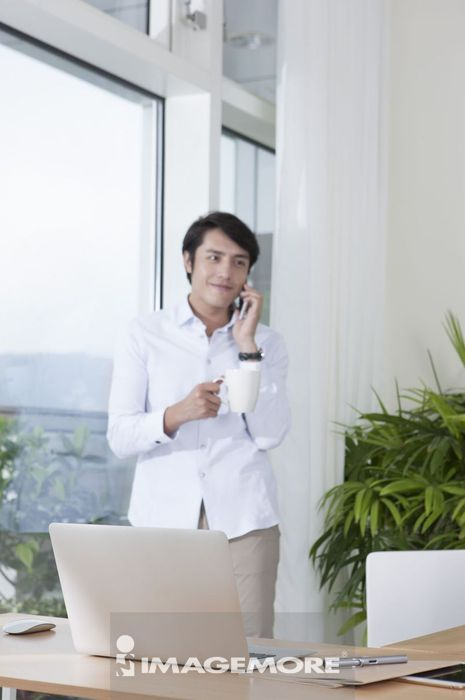talk: (200, 248, 262, 345)
